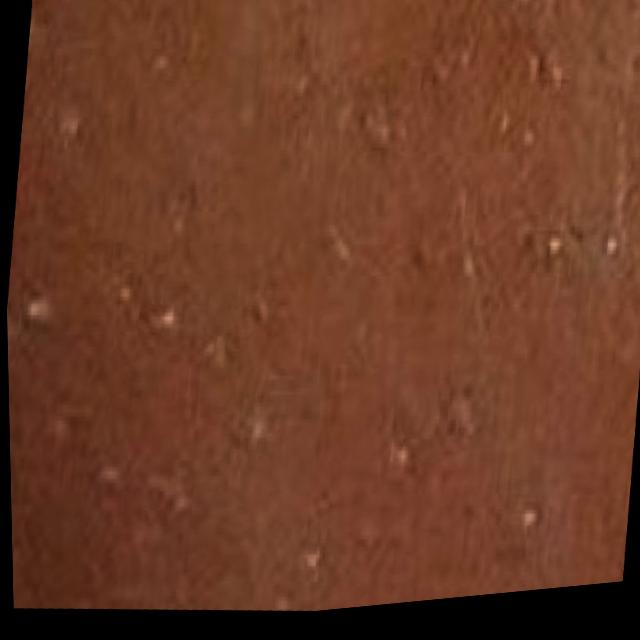whitehead: (5, 63, 634, 617)
